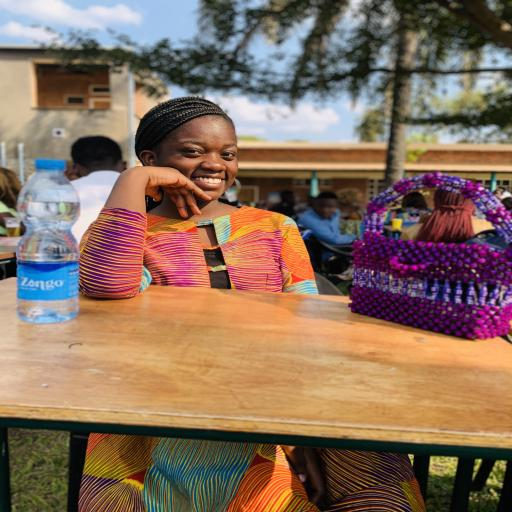LAURENE: (152, 99, 253, 219)
